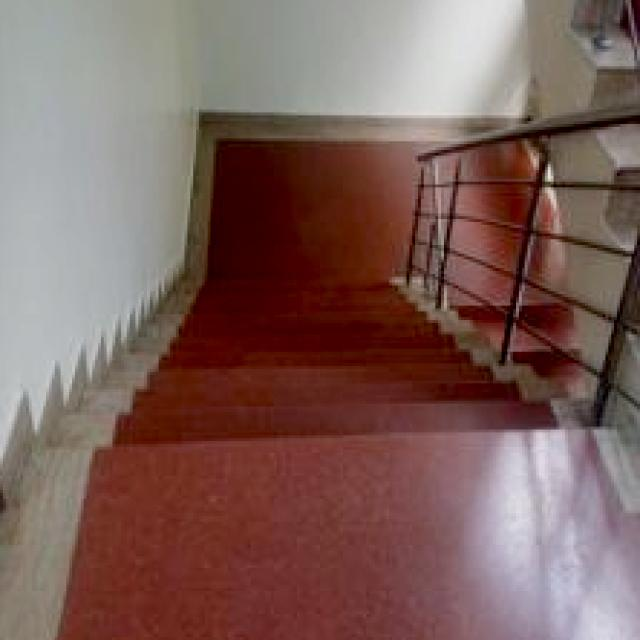downstair: (59, 327, 592, 508)
